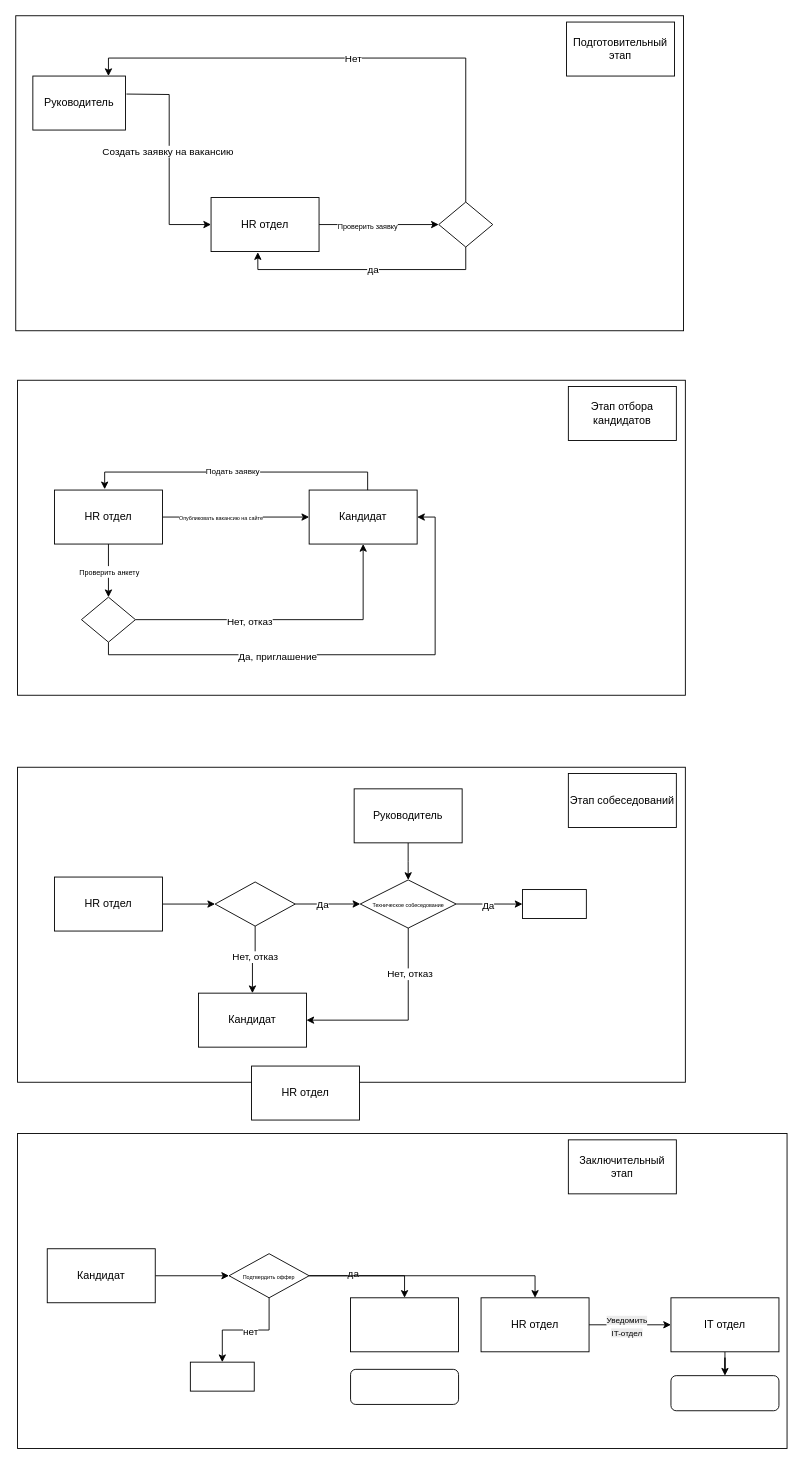
This 803x1464 diagram has some shape labels left out. Here are the shapes that lost their labels. From the top down, the centre of each, then its label:
the point at 254,903: Первичное интервью
the point at 554,904: Офер
the point at 404,1324: Система
the point at 221,1376: Отказ
the point at 404,1386: Добавить сотрудника в базу данных
the point at 724,1393: Настроить рабочее место
